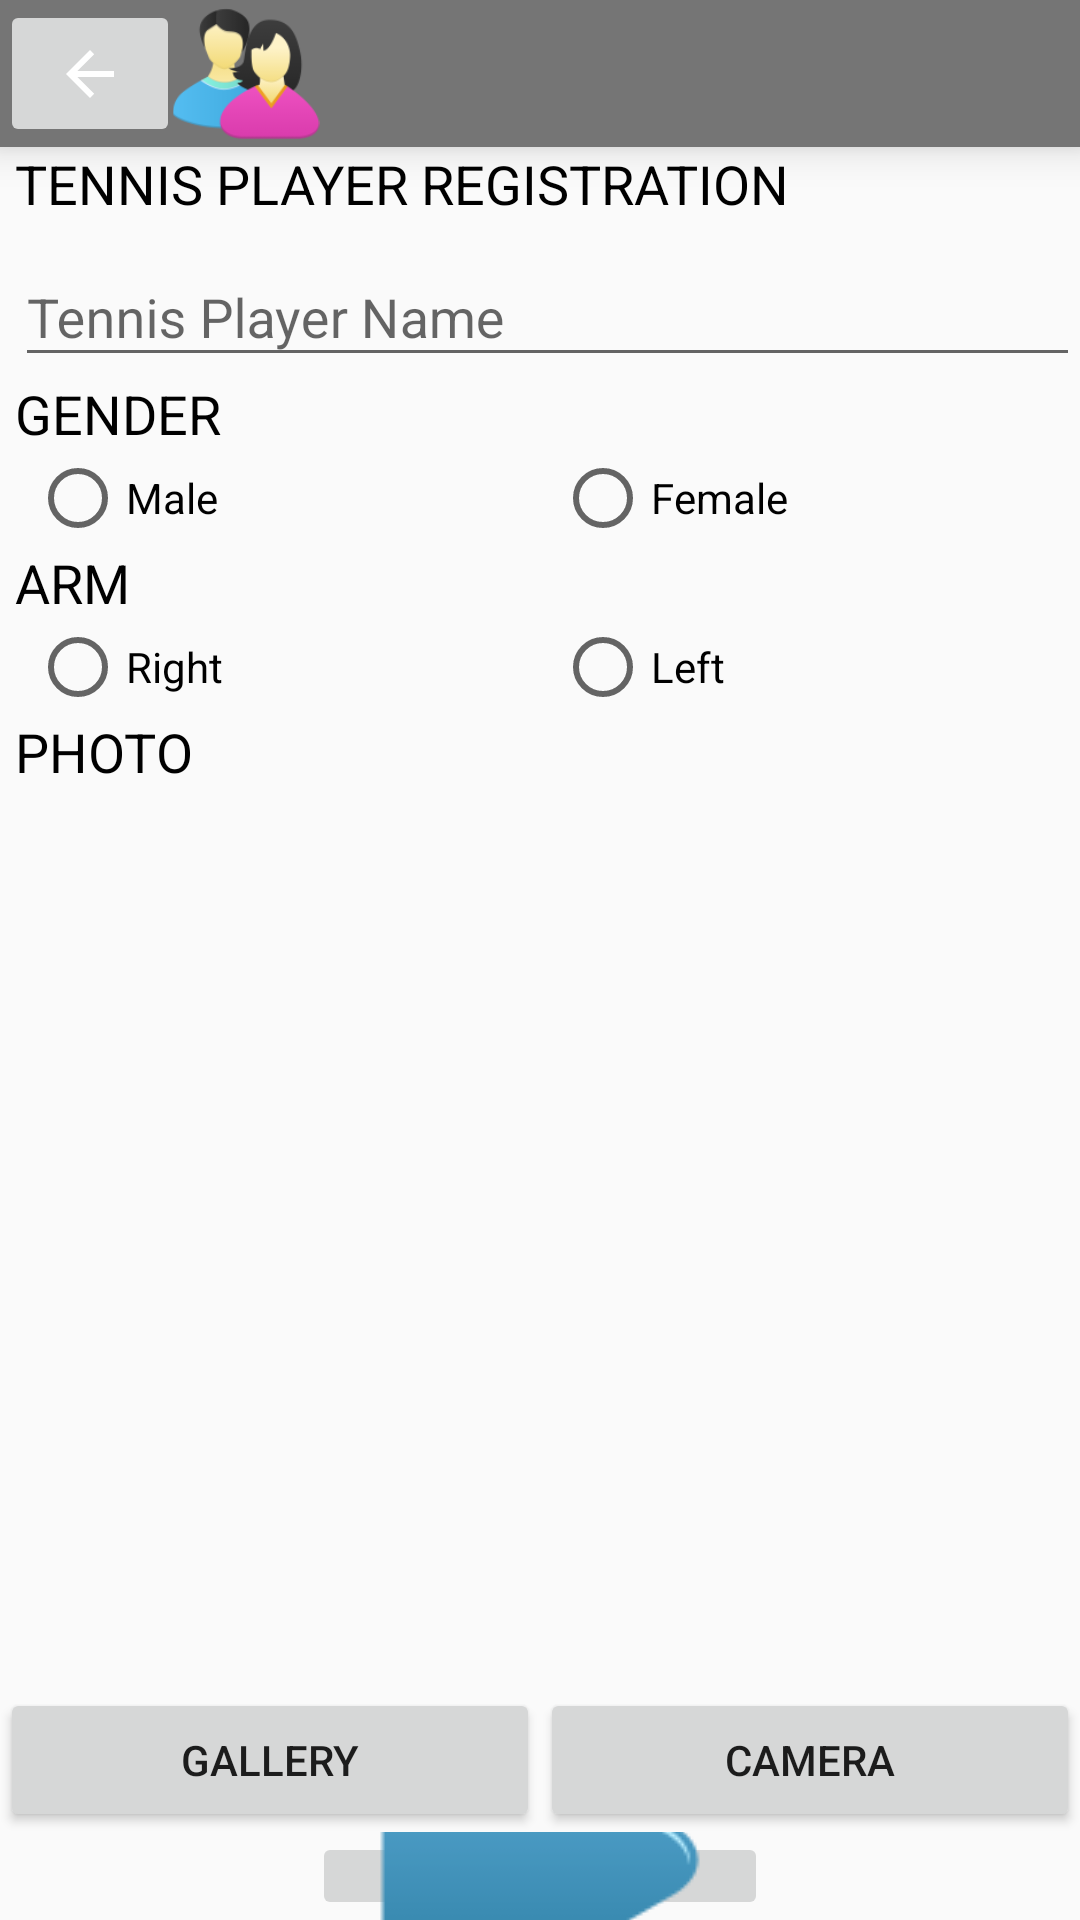

Named icons in this screenshot (1080w x 1920h) and their centers, [x,y]:
parejatenis: [246,73]
